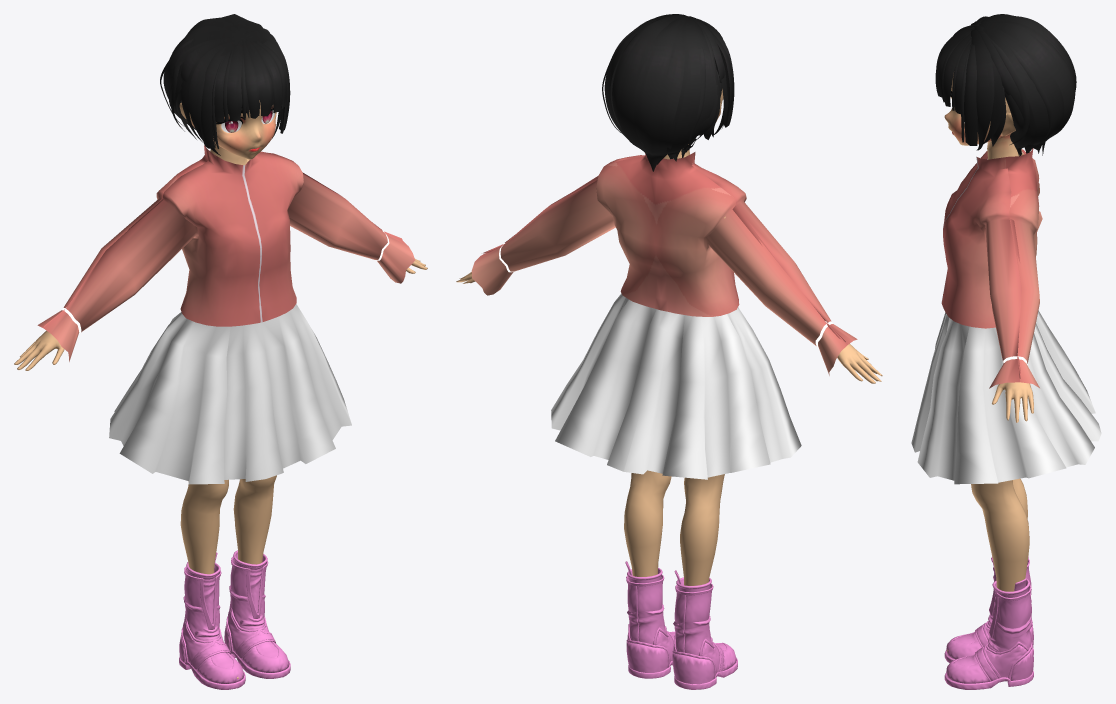
File: female.glb
The picture shows the model from 3 angles, left to right: view 1: azimuth 30°, elevation 25°; view 2: azimuth 150°, elevation 25°; view 3: azimuth 270°, elevation 25°; orthographic projection. The views are drawn at different scales.
Parts seen in each view (by area): view 1: Body.512_36, cabello2.003_37, Body.005_7, face_2, cuerpo m.001_39, cuerpo m.005_38; view 2: cabello2.003_37, Body.512_36, Body.005_7, face_2, cuerpo m.001_39, cuerpo m.005_38; view 3: cabello2.003_37, Body.512_36, Body.005_7, face_2, cuerpo m.005_38, cuerpo m.001_39.
Part boxes in pixels (x1=…): Body.512_36: x1=37, y1=145, x2=415, y2=361; cabello2.003_37: x1=109, y1=304, x2=351, y2=484; Body.005_7: x1=160, y1=14, x2=290, y2=155; face_2: x1=14, y1=100, x2=427, y2=678; cuerpo m.001_39: x1=179, y1=552, x2=245, y2=689; cuerpo m.005_38: x1=224, y1=550, x2=290, y2=678; cabello2.003_37: x1=551, y1=293, x2=801, y2=479; Body.512_36: x1=471, y1=152, x2=857, y2=375; Body.005_7: x1=602, y1=14, x2=734, y2=171; face_2: x1=456, y1=89, x2=882, y2=585; cuerpo m.001_39: x1=672, y1=570, x2=737, y2=689; cuerpo m.005_38: x1=625, y1=561, x2=675, y2=678; cabello2.003_37: x1=911, y1=310, x2=1101, y2=484; Body.512_36: x1=941, y1=148, x2=1042, y2=388; Body.005_7: x1=935, y1=14, x2=1076, y2=156; face_2: x1=944, y1=73, x2=1033, y2=651; cuerpo m.005_38: x1=944, y1=577, x2=1033, y2=689; cuerpo m.001_39: x1=944, y1=556, x2=1033, y2=662.
Size of the model in its own units: 1.2 by 1.78 by 0.4715.
Materials: 15 (5 with a texture image).
